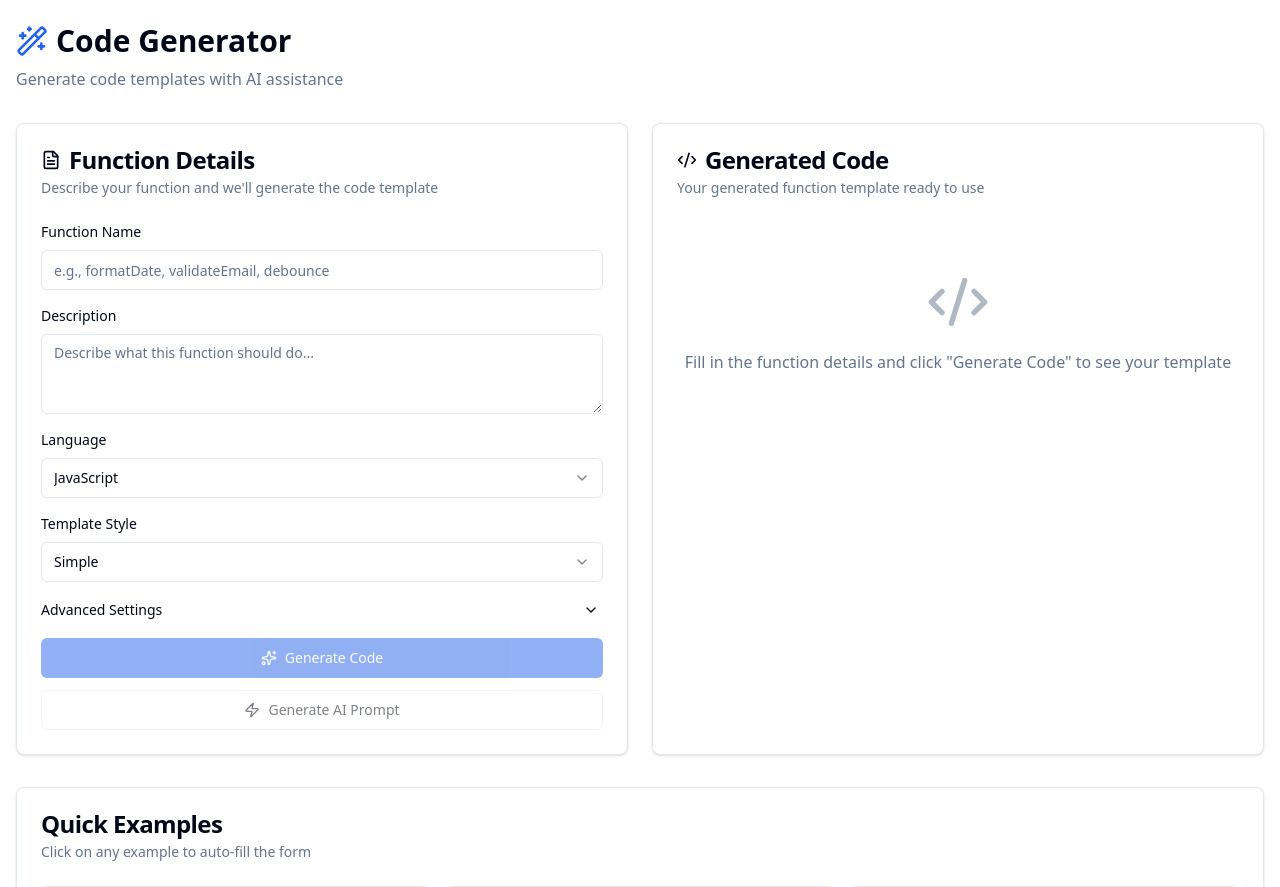
it: GeneratorPage › generates AI prompt when button is clicked
In the field with placeholder "e.g., formatDate, validateEmail, debounce": [322, 270] box [41, 250, 603, 290], type "testFunction"
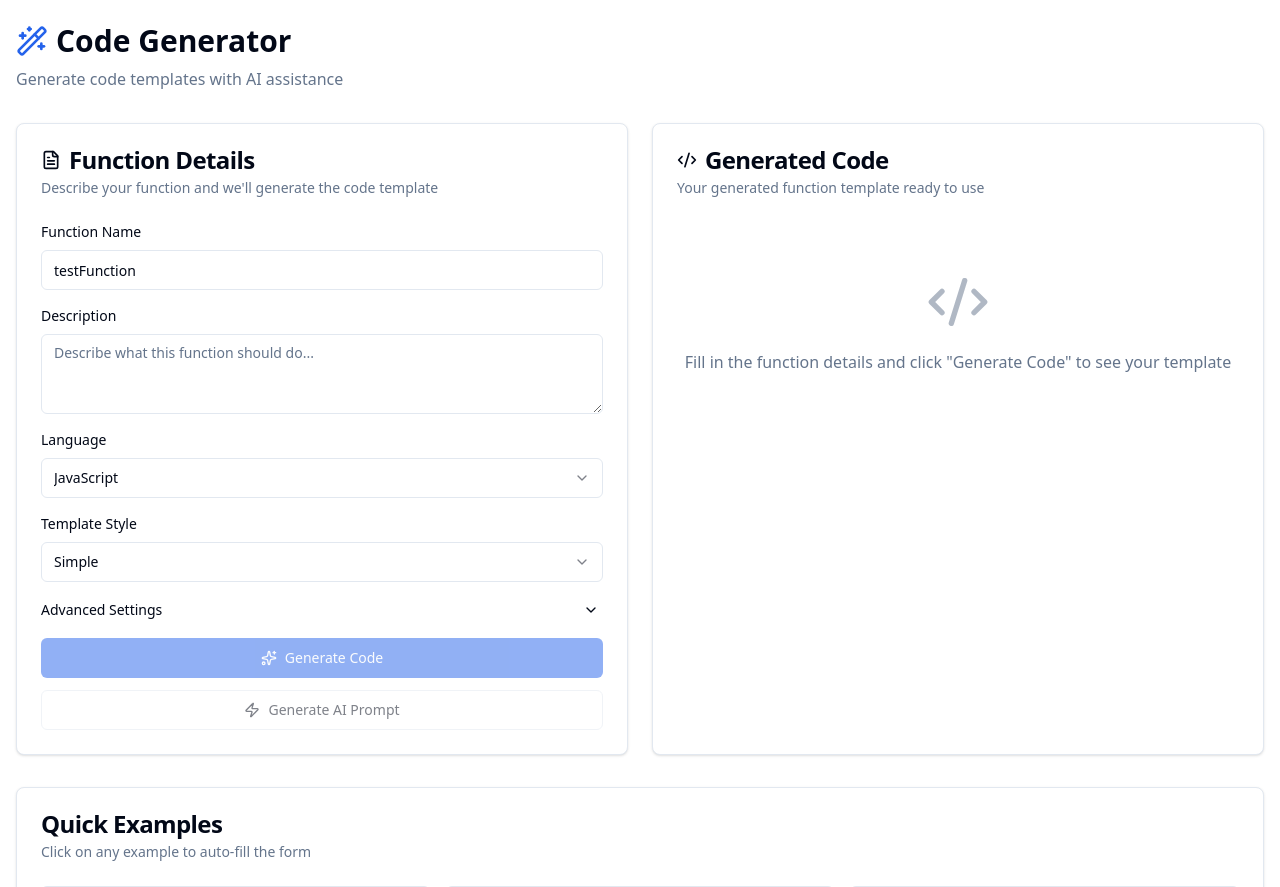
In the text box with placeholder "Describe what this function should do...": [322, 374] box [41, 334, 603, 414], type "A test function"
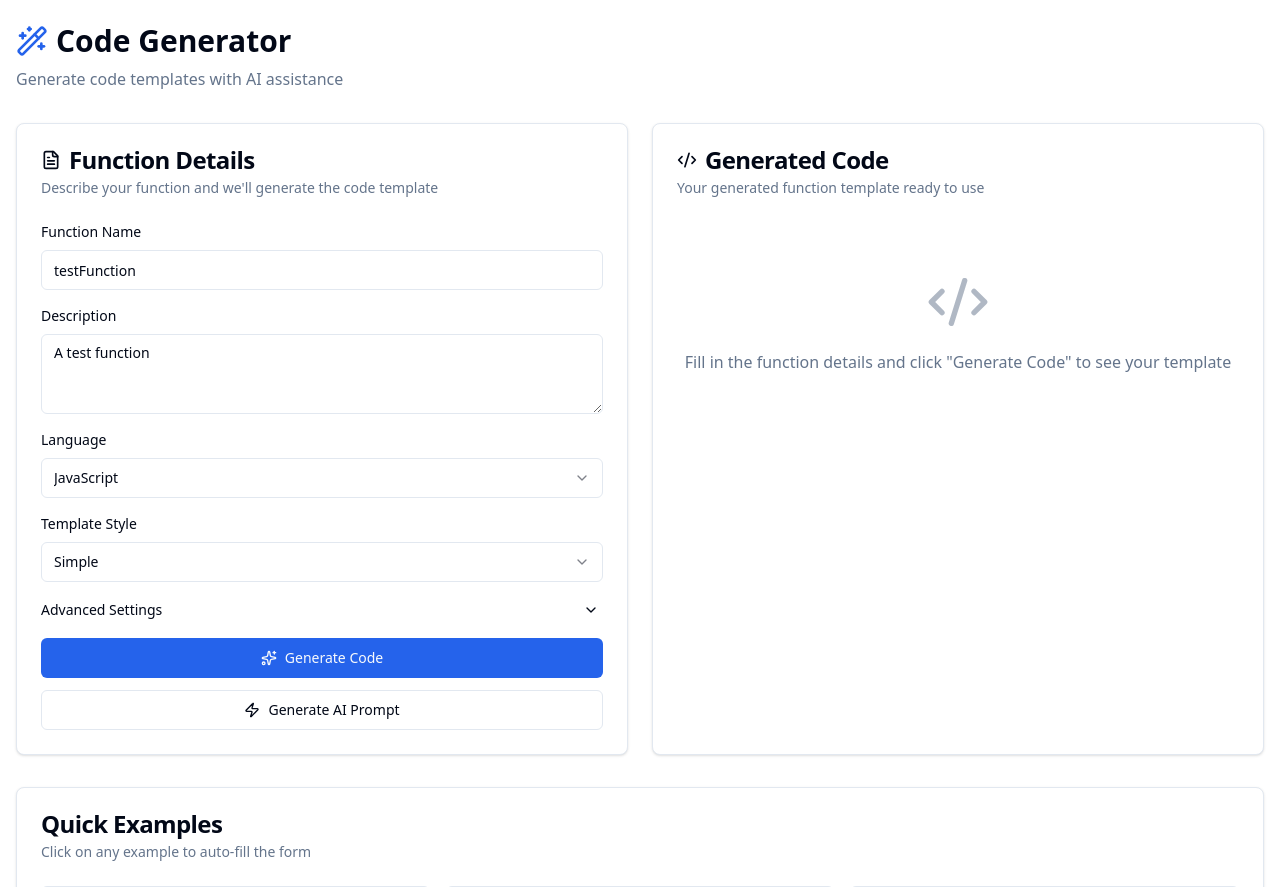
Click the button "Generate AI Prompt": [322, 710] box [41, 690, 603, 730]
(page scrolled)
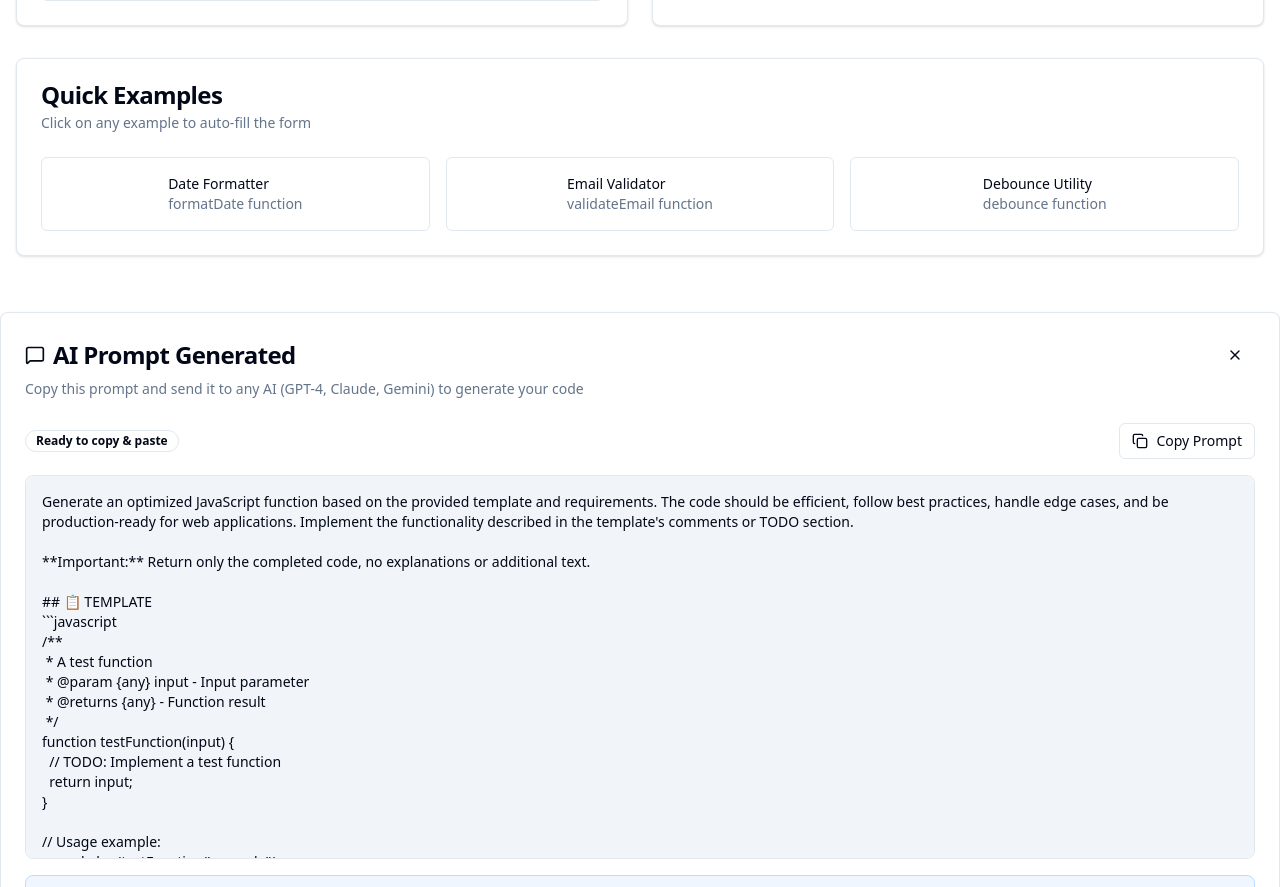
Expected: the heading "AI Prompt Generated" is shown, [25, 343, 296, 367]
Expected: the text "Copy this prompt and send it to any AI (GPT-4, Claude, Gemini) to generate your code" is shown, [25, 379, 584, 398]
Expected: the text "Ready to copy & paste" is shown, [25, 430, 179, 452]
